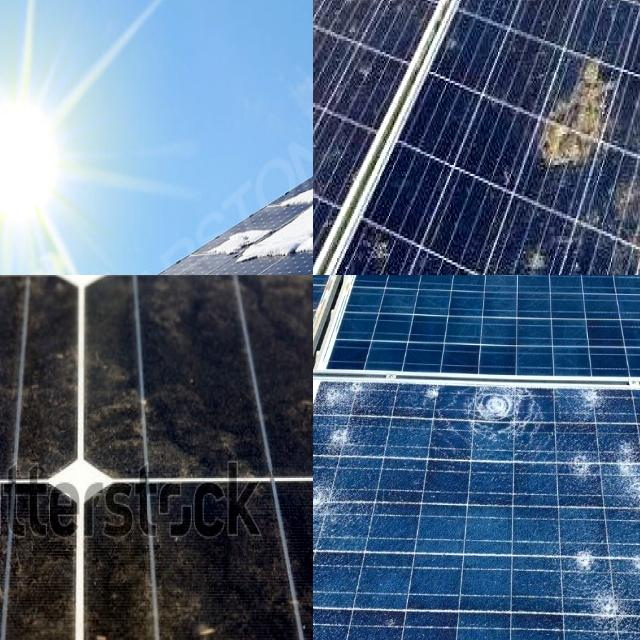bird: (534, 38, 611, 193), (597, 0, 638, 43)
dust: (97, 278, 255, 470), (91, 488, 206, 640), (0, 275, 77, 477), (0, 279, 65, 475), (248, 279, 313, 470), (233, 487, 307, 640), (89, 275, 313, 312), (0, 483, 44, 640), (19, 487, 64, 640), (0, 488, 34, 640), (0, 275, 89, 307)
hotspot: (564, 443, 640, 529), (315, 378, 384, 456), (465, 392, 553, 444), (564, 392, 636, 434), (566, 538, 640, 572), (584, 588, 636, 633), (313, 467, 340, 546), (412, 374, 449, 417), (313, 446, 333, 514)
panel: (222, 216, 272, 268), (287, 181, 313, 269)
